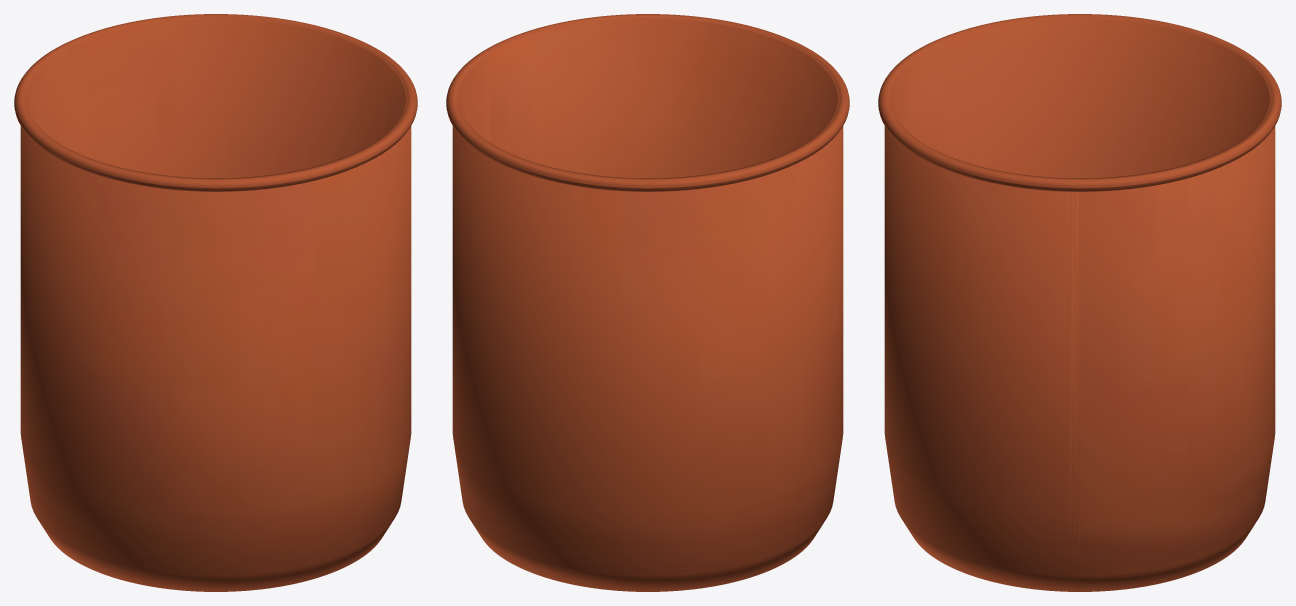
The model's file is cookware__copper_hammered_cup.glb.
3 views of the same model, side by side, from view 1: azimuth 30°, elevation 25°; view 2: azimuth 150°, elevation 25°; view 3: azimuth 270°, elevation 25° (orthographic).
Parts seen in each view (by area): view 1: vessel; view 2: vessel; view 3: vessel.
Part boxes in pixels (x1=…): vessel: x1=14, y1=14, x2=417, y2=591; vessel: x1=446, y1=14, x2=849, y2=591; vessel: x1=878, y1=14, x2=1281, y2=591.
Bounding box in the file's own units: 0.0826 × 0.0953 × 0.0826.
1 material, 1 textured.
